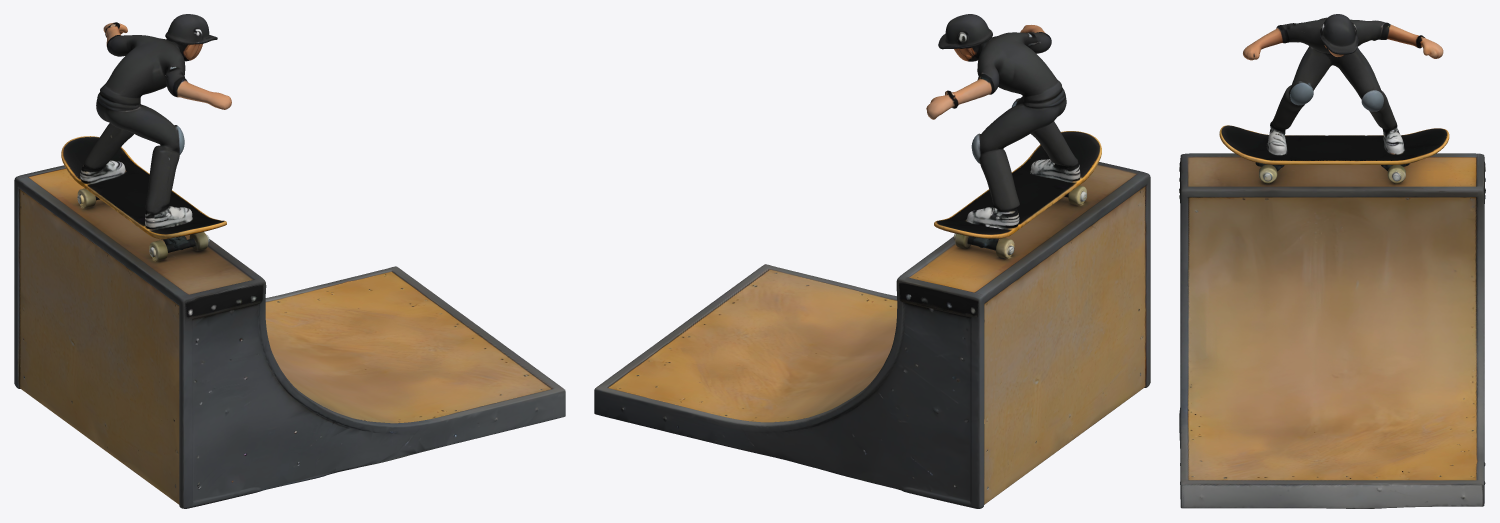
File: plaza-skate-ramp.glb
3 renders of one model, left to right at view 1: azimuth 30°, elevation 25°; view 2: azimuth 150°, elevation 25°; view 3: azimuth 270°, elevation 25°, orthographic. The views are drawn at different scales.
Parts seen in each view (by area): view 1: tripo_node_ba6ebe45-8206-435b-be4e-d3ba3f4cda79; view 2: tripo_node_ba6ebe45-8206-435b-be4e-d3ba3f4cda79; view 3: tripo_node_ba6ebe45-8206-435b-be4e-d3ba3f4cda79.
Boxes of the visible parts, x1,y1,x2,y2 form: tripo_node_ba6ebe45-8206-435b-be4e-d3ba3f4cda79: (14, 14, 565, 508); tripo_node_ba6ebe45-8206-435b-be4e-d3ba3f4cda79: (594, 14, 1150, 508); tripo_node_ba6ebe45-8206-435b-be4e-d3ba3f4cda79: (1179, 14, 1485, 508).
Size of the model in its own units: 1.96 by 2 by 1.52.
Materials: 1 (1 with a texture image).
